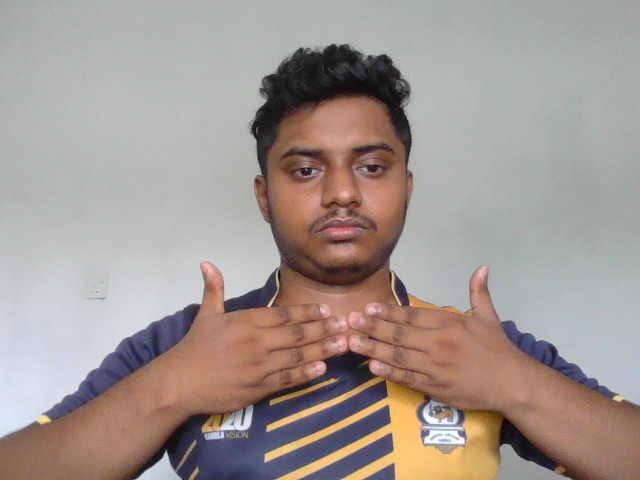Thank You: (173, 259, 526, 419)
